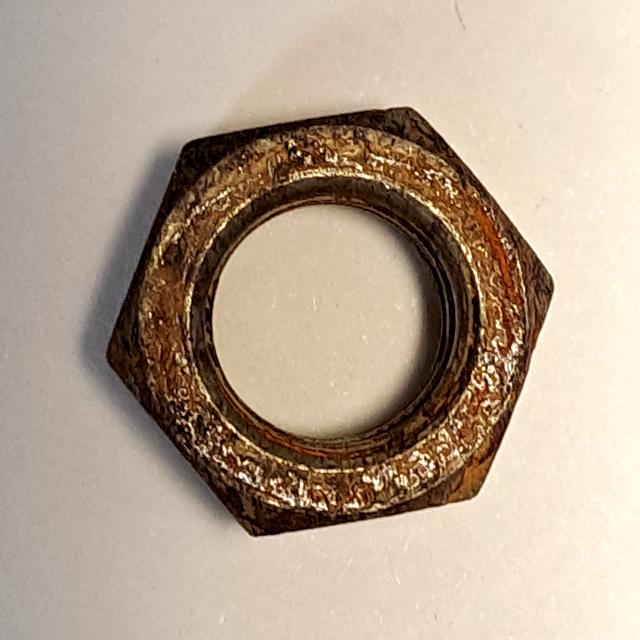Rust: (94, 96, 567, 551)
